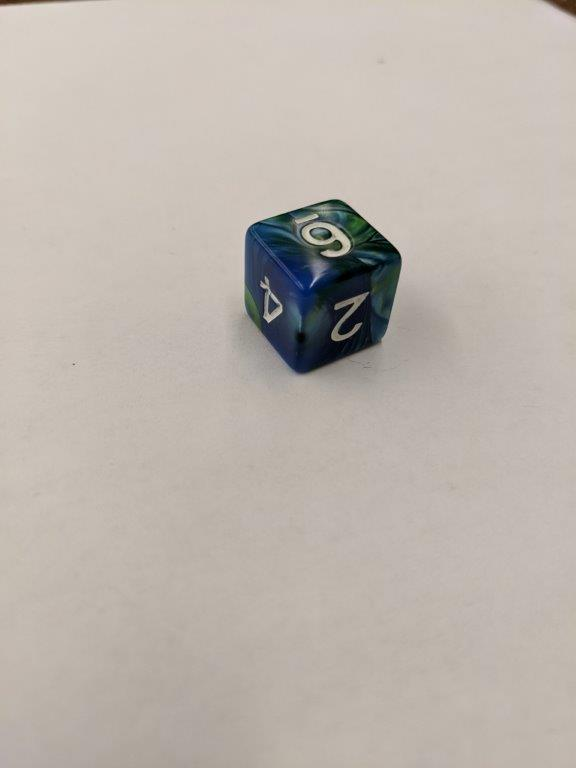d6-6: (244, 196, 404, 376)
